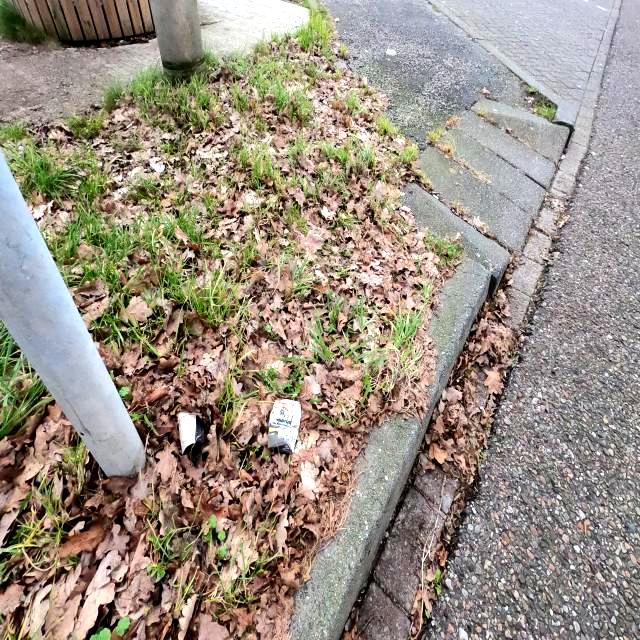Coffee Cup: (175, 411, 205, 462)
Paper: (267, 398, 303, 454)
